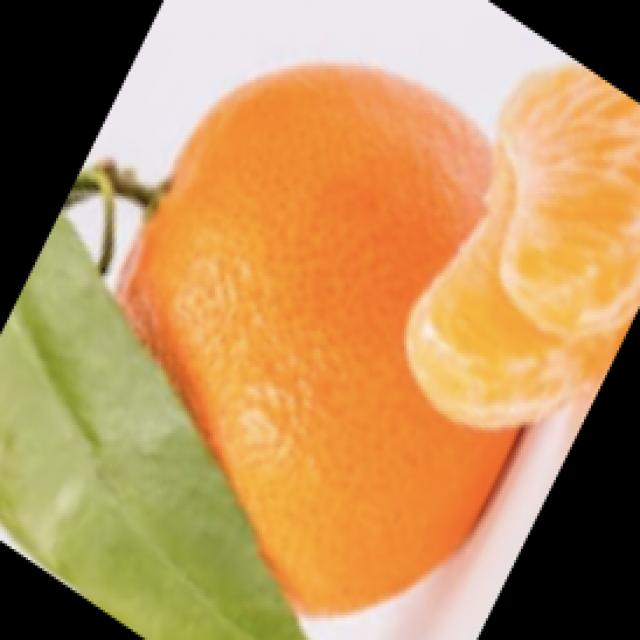fresh: (25, 48, 640, 626)
